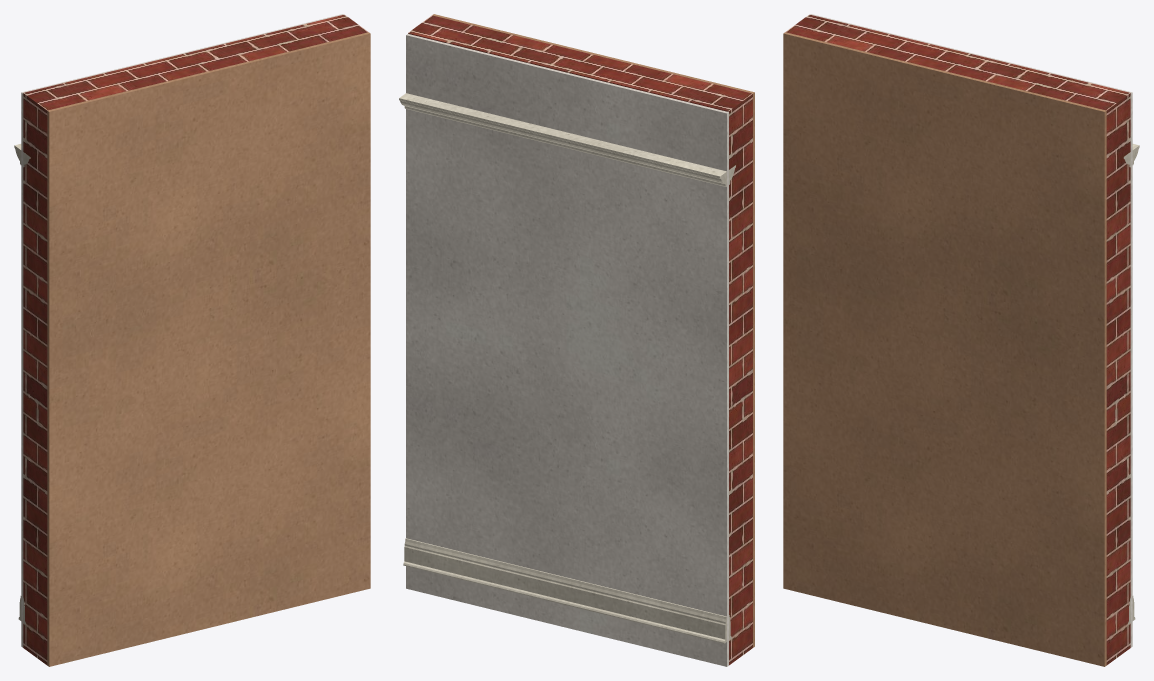
File: b_g_plain.glb
The picture shows the model from 3 angles, left to right: view 1: azimuth 30°, elevation 25°; view 2: azimuth 150°, elevation 25°; view 3: azimuth 330°, elevation 25°; orthographic projection.
Visible parts, largest first — view 1: b_g_plain_aplaster, b_g_plain_brick, b_g_plain_plaster; view 2: b_g_plain_plaster, b_g_plain_brick, molduras, b_g_plain_aplaster; view 3: b_g_plain_aplaster, b_g_plain_brick, b_g_plain_plaster.
Boxes of the visible parts, bbox=[...] form: b_g_plain_aplaster: bbox=[47, 32, 370, 666]; b_g_plain_brick: bbox=[23, 14, 368, 665]; b_g_plain_plaster: bbox=[21, 14, 343, 647]; b_g_plain_plaster: bbox=[406, 34, 728, 666]; b_g_plain_brick: bbox=[408, 15, 752, 665]; molduras: bbox=[399, 93, 735, 643]; b_g_plain_aplaster: bbox=[432, 14, 754, 647]; b_g_plain_aplaster: bbox=[783, 32, 1106, 666]; b_g_plain_brick: bbox=[785, 14, 1130, 665]; b_g_plain_plaster: bbox=[810, 14, 1132, 647].
Size of the model in its own units: 2 by 3.3 by 0.375.
4 materials, 4 textured.
